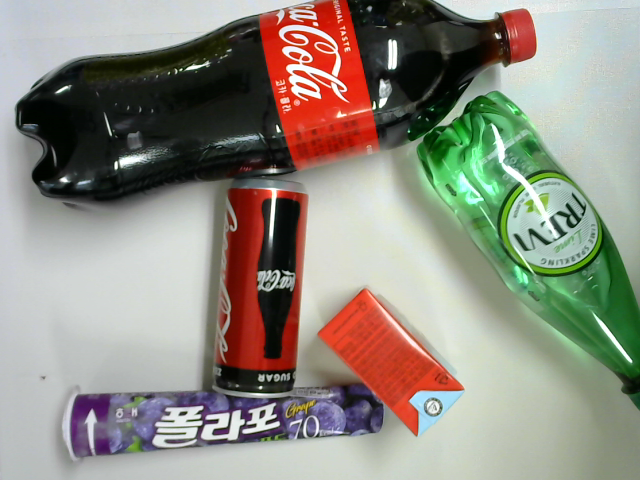Coca_Cola_1.5L: (11, 1, 539, 219)
Coca_Cola_Zero_Can_250ml: (210, 175, 306, 395)
Picnic_Apple: (317, 291, 465, 434)
Polapo_Grape: (57, 384, 389, 461)
Treviraim_500ml: (414, 91, 640, 411)
